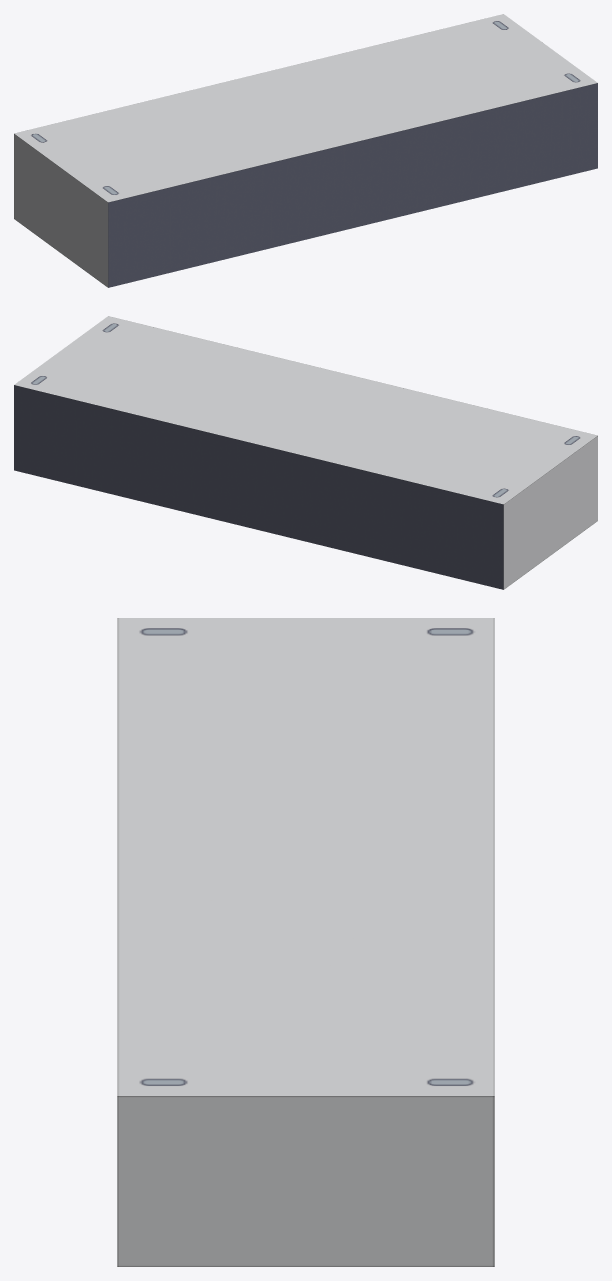
File: Floor_Tinny_01.FBX
3 views of the same model, one above another, from view 1: azimuth 30°, elevation 25°; view 2: azimuth 150°, elevation 25°; view 3: azimuth 270°, elevation 25° (orthographic). The views are drawn at different scales.
Parts seen in each view (by area): view 1: Floor_Tinny_01; view 2: Floor_Tinny_01; view 3: Floor_Tinny_01.
Part boxes in pixels (bbox=[...]): Floor_Tinny_01: bbox=[14, 14, 597, 287]; Floor_Tinny_01: bbox=[14, 316, 597, 589]; Floor_Tinny_01: bbox=[117, 618, 494, 1266].
Size of the model in its own units: 6 by 1 by 2.
